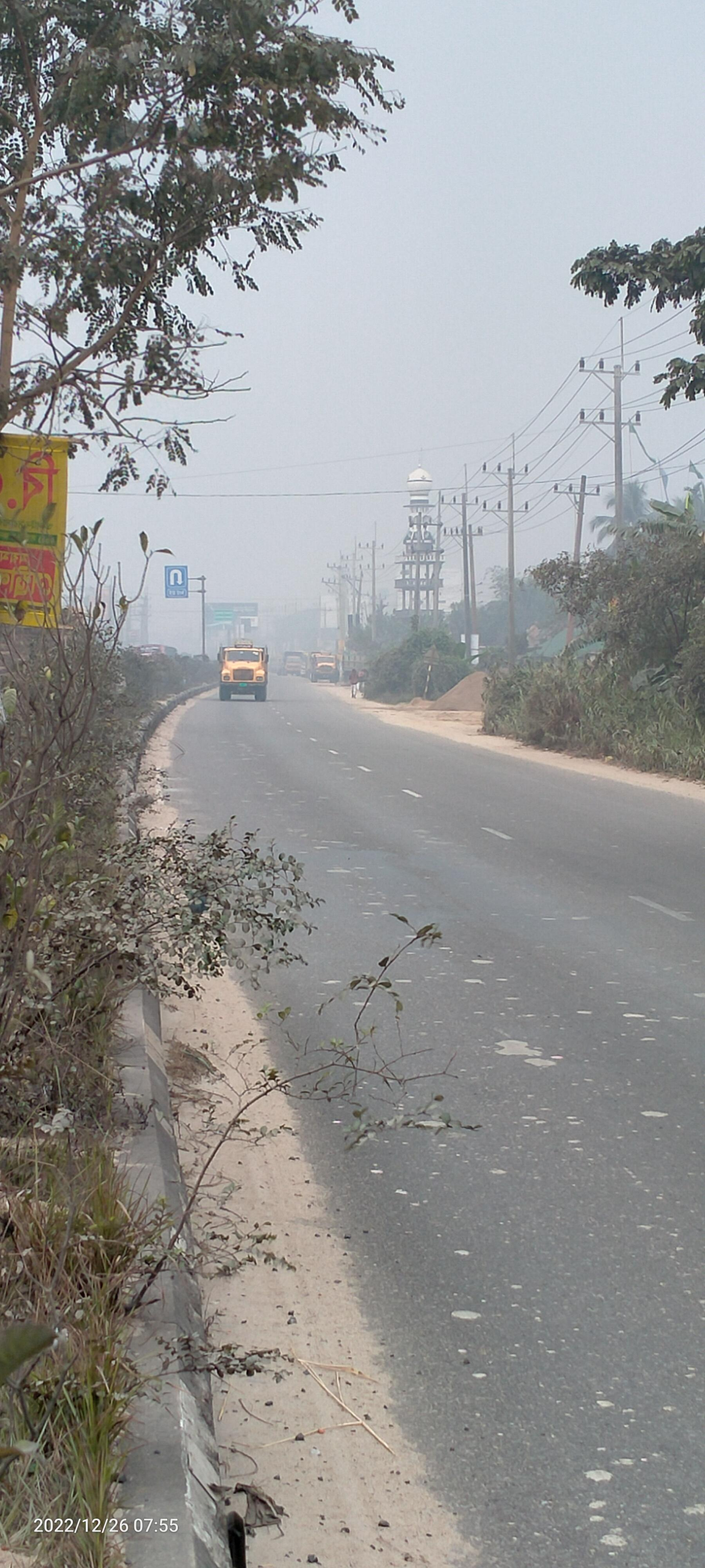Truck: (214, 642, 276, 706), (308, 648, 344, 689)
